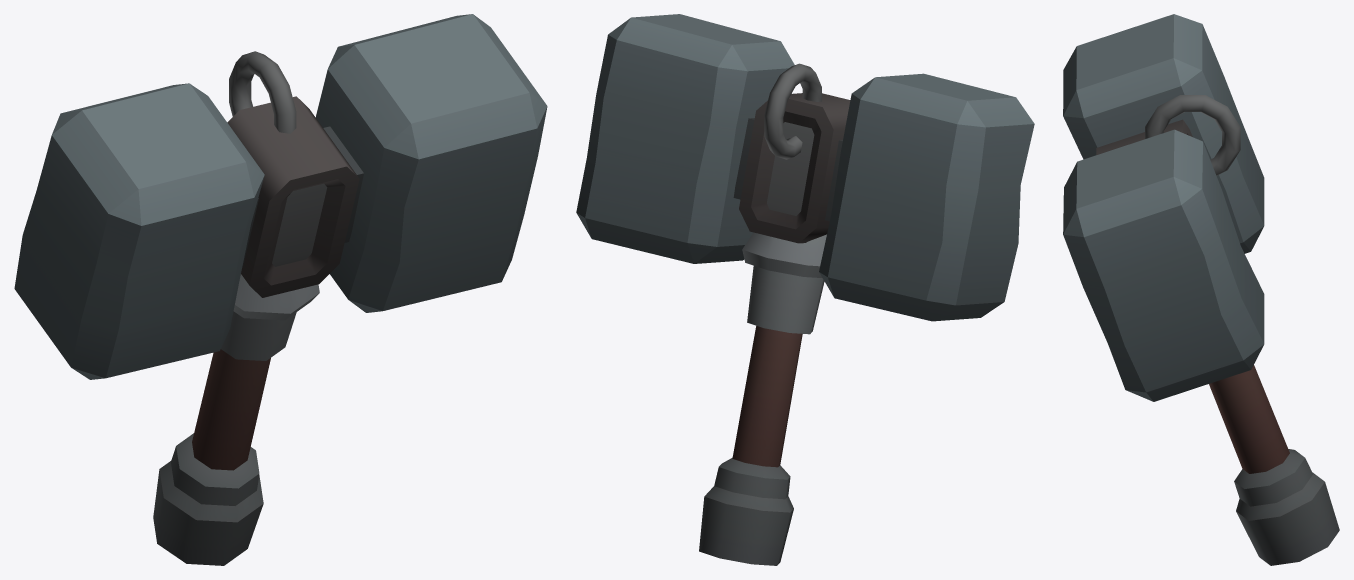
The model's file is Charm_11.fbx.
The picture shows the model from 3 angles, left to right: view 1: azimuth 30°, elevation 25°; view 2: azimuth 150°, elevation 25°; view 3: azimuth 270°, elevation 25°; orthographic projection. The views are drawn at different scales.
Visible parts, largest first — view 1: Charm_11; view 2: Charm_11; view 3: Charm_11.
Part boxes in pixels (<box>): Charm_11: <box>14,14,547,565</box>; Charm_11: <box>576,14,1034,565</box>; Charm_11: <box>1063,14,1339,565</box>.
Bounding box in the file's own units: 5.63 × 6.51 × 3.52.
